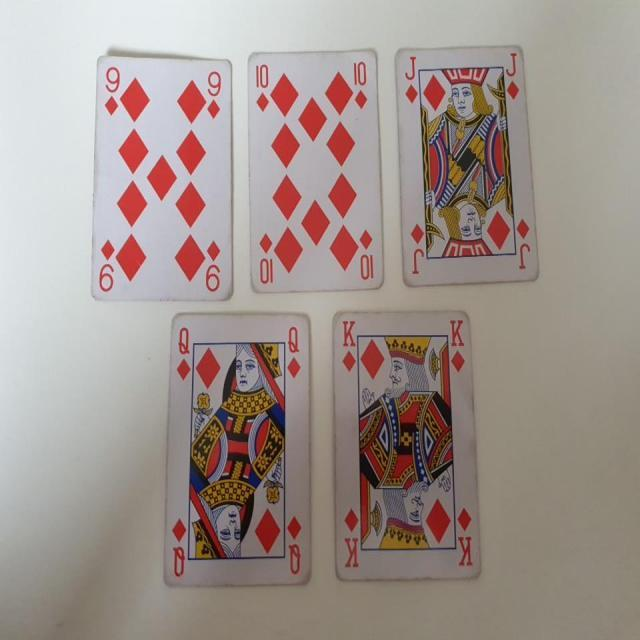10 of diamonds: (243, 45, 384, 298)
9 of diamonds: (90, 52, 234, 298)
jack of diamonds: (393, 46, 540, 286)
king of diamonds: (330, 308, 486, 584)
queen of diamonds: (161, 312, 313, 590)
